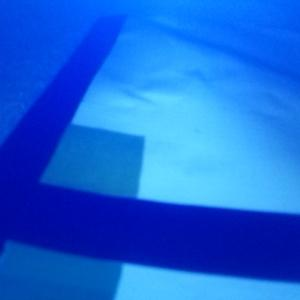bottom_right: (1, 201, 123, 300)
top_right: (17, 124, 145, 242)
